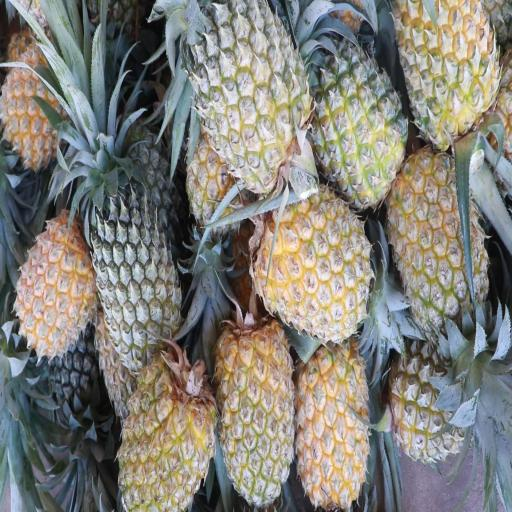------------------------------: (195, 0, 308, 176), (390, 162, 481, 318), (400, 0, 494, 151), (390, 344, 470, 458)
Pineapple - v8 v1: (121, 343, 218, 511), (261, 185, 367, 333), (218, 320, 292, 506), (322, 48, 404, 200), (8, 214, 90, 356), (296, 343, 367, 498), (183, 85, 247, 227), (0, 40, 71, 160)
